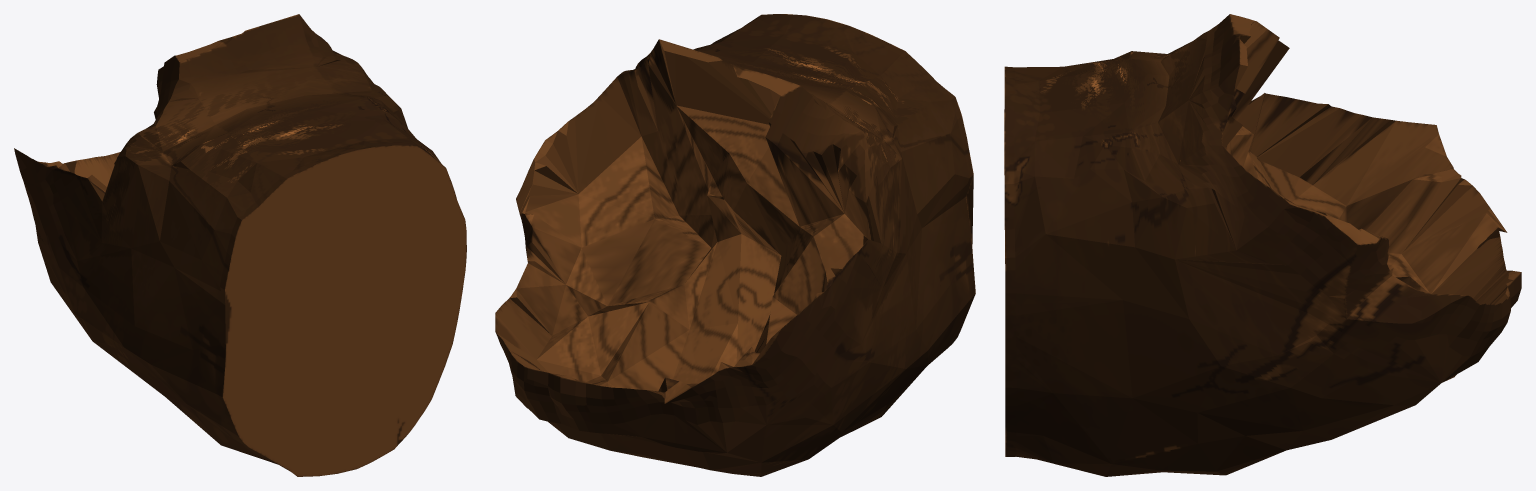
Rendered from GConeMuzzle.fbx.
The picture shows the model from 3 angles, left to right: view 1: azimuth 30°, elevation 25°; view 2: azimuth 150°, elevation 25°; view 3: azimuth 270°, elevation 25°; orthographic projection. The views are drawn at different scales.
Visible parts, largest first — view 1: GConeMuzzle; view 2: GConeMuzzle; view 3: GConeMuzzle.
Boxes of the visible parts, x1,y1,x2,y2 form: GConeMuzzle: (14,14,466,476); GConeMuzzle: (495,14,975,476); GConeMuzzle: (1004,14,1521,476).
Size of the model in its own units: 122 by 152 by 173.
